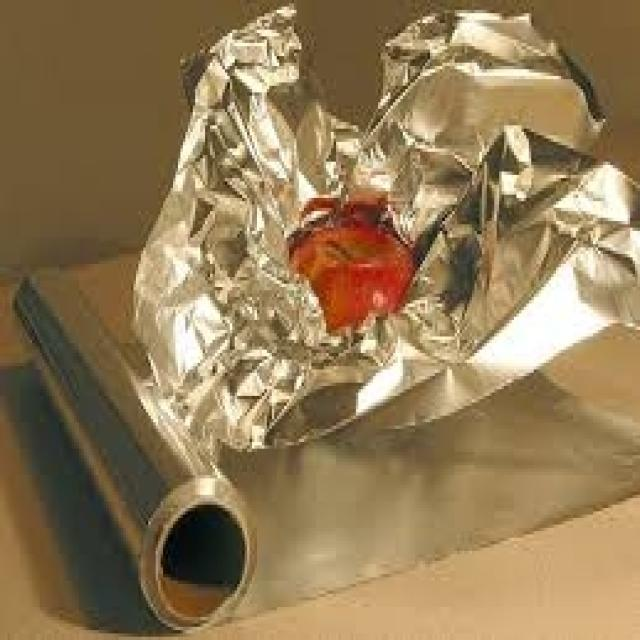kim_loai: (128, 0, 640, 482), (12, 254, 640, 633)
